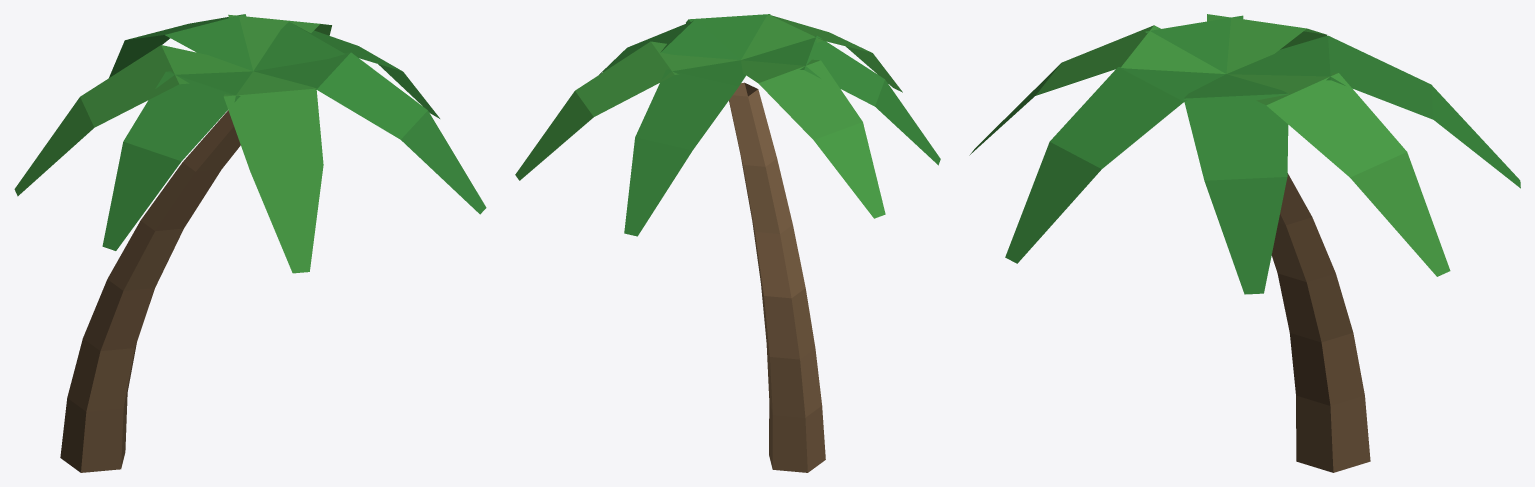
Rendered from TreePalm_A.fbx.
3 views of the same model, side by side, from view 1: azimuth 30°, elevation 25°; view 2: azimuth 150°, elevation 25°; view 3: azimuth 270°, elevation 25° (orthographic). The views are drawn at different scales.
Parts seen in each view (by area): view 1: TreePalm_A; view 2: TreePalm_A; view 3: TreePalm_A.
Part boxes in pixels (x1=…): TreePalm_A: x1=14, y1=14, x2=486, y2=472; TreePalm_A: x1=515, y1=14, x2=940, y2=472; TreePalm_A: x1=969, y1=14, x2=1520, y2=472.
Size of the model in its own units: 3662 by 3620 by 3957.
